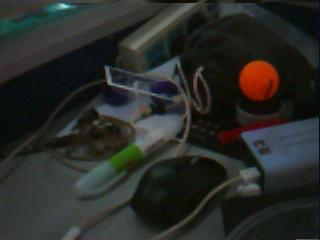oball: (239, 60, 278, 99)
